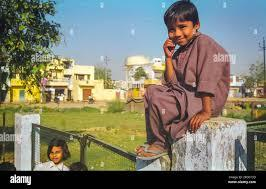Human: (138, 3, 236, 161), (15, 128, 88, 175)
